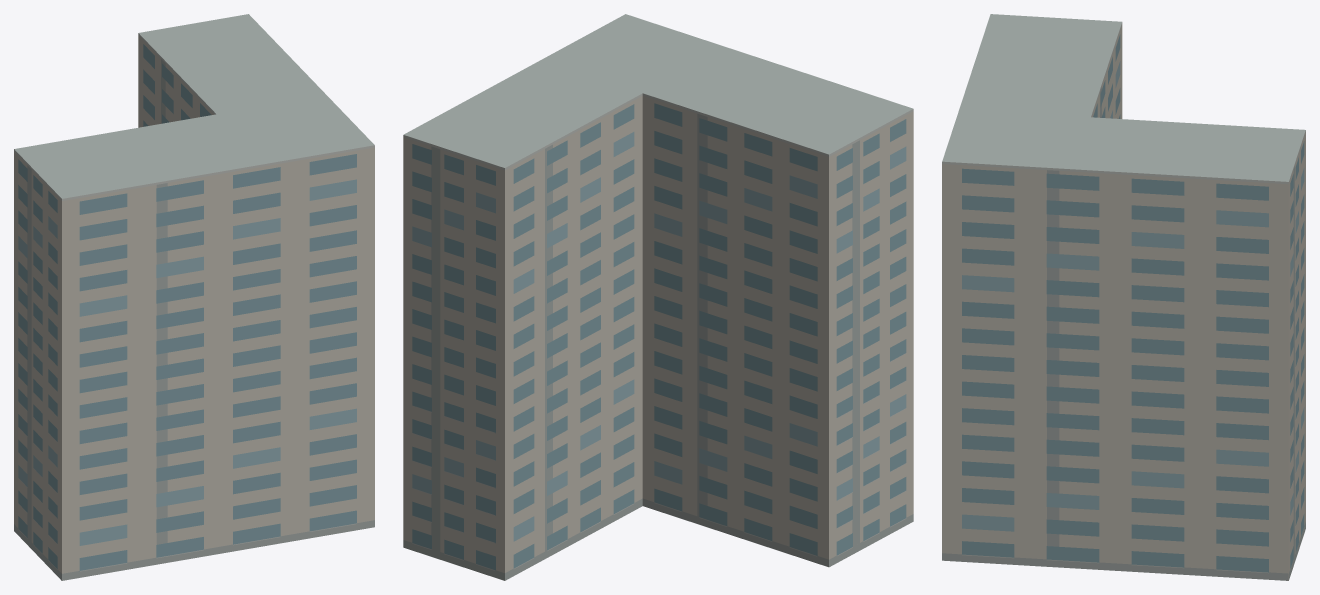
File: residential-10865a2b-866e-43b8-aef8-cdc741f1e0d4.glb
The picture shows the model from 3 angles, left to right: view 1: azimuth 30°, elevation 25°; view 2: azimuth 150°, elevation 25°; view 3: azimuth 270°, elevation 25°; orthographic projection. The views are drawn at different scales.
Visible parts, largest first — view 1: residential-10865a2b-866e-43b8-aef8-cdc741f1e0d4.tmp; view 2: residential-10865a2b-866e-43b8-aef8-cdc741f1e0d4.tmp; view 3: residential-10865a2b-866e-43b8-aef8-cdc741f1e0d4.tmp.
Boxes of the visible parts, bbox=[...] form: residential-10865a2b-866e-43b8-aef8-cdc741f1e0d4.tmp: bbox=[14, 14, 374, 580]; residential-10865a2b-866e-43b8-aef8-cdc741f1e0d4.tmp: bbox=[403, 14, 913, 580]; residential-10865a2b-866e-43b8-aef8-cdc741f1e0d4.tmp: bbox=[942, 14, 1305, 580].
Size of the model in its own units: 37.93 by 42 by 34.71.
